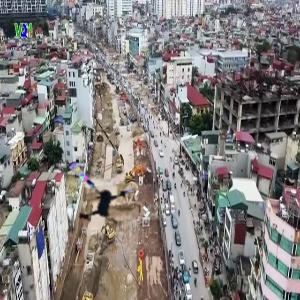drone: (52, 159, 135, 242)
